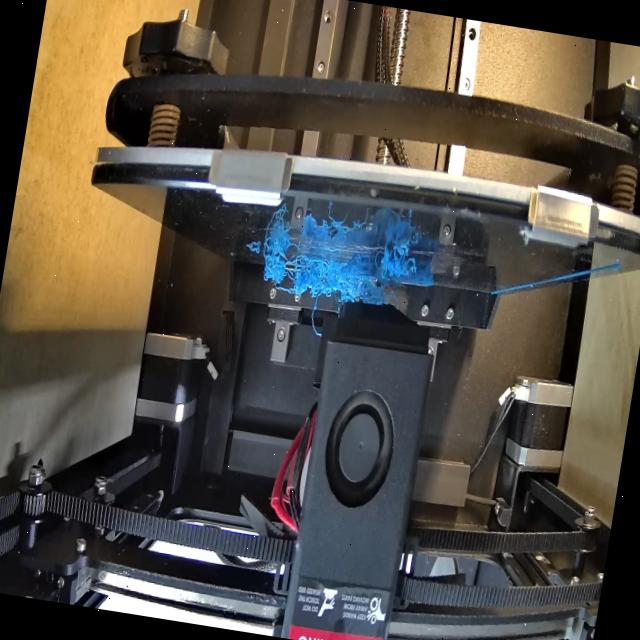spaghetti: (258, 248, 380, 303), (374, 234, 426, 285)
